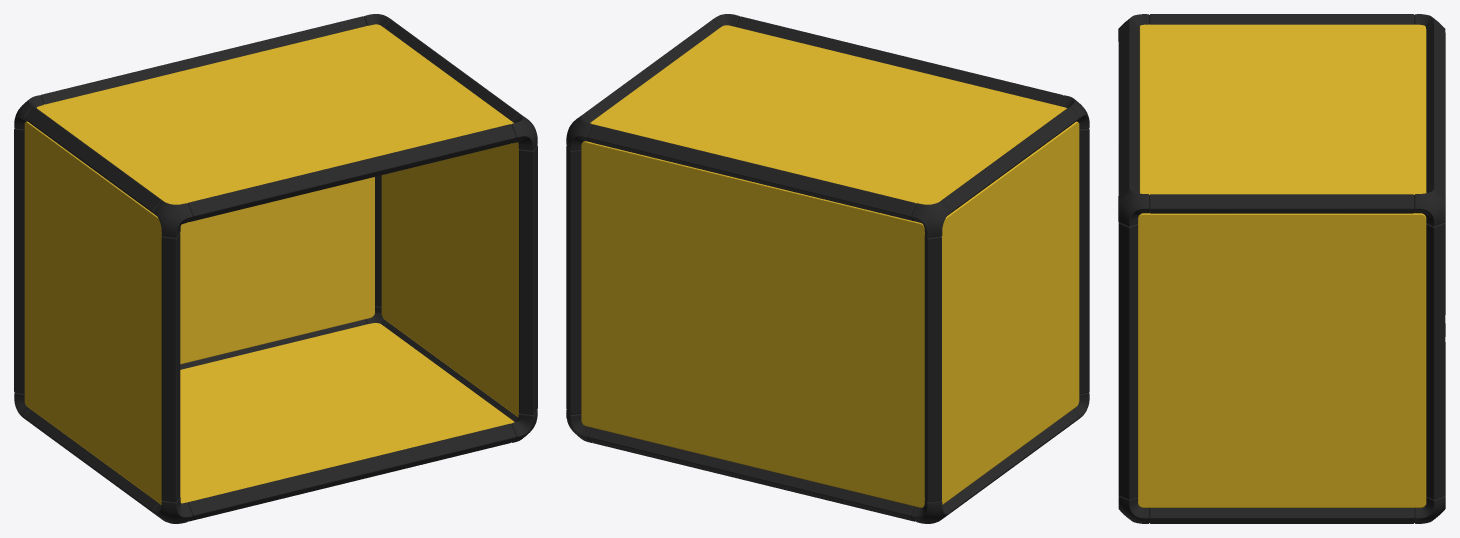
3 views of the same model, side by side, from view 1: azimuth 30°, elevation 25°; view 2: azimuth 150°, elevation 25°; view 3: azimuth 270°, elevation 25° (orthographic). The views are drawn at different scales.
Parts seen in each view (by area): view 1: 479x329x374; view 2: 479x329x374; view 3: 479x329x374.
Boxes of the visible parts, <box> form: 479x329x374: <box>14,14,537,523</box>; 479x329x374: <box>566,14,1089,523</box>; 479x329x374: <box>1118,14,1445,523</box>.
Size of the model in its own units: 0.5567 by 0.4517 by 0.4063.
